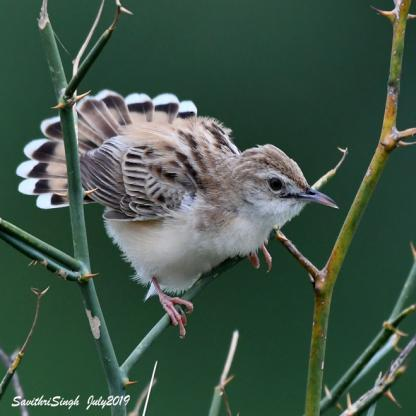Burung: (15, 87, 340, 337)
